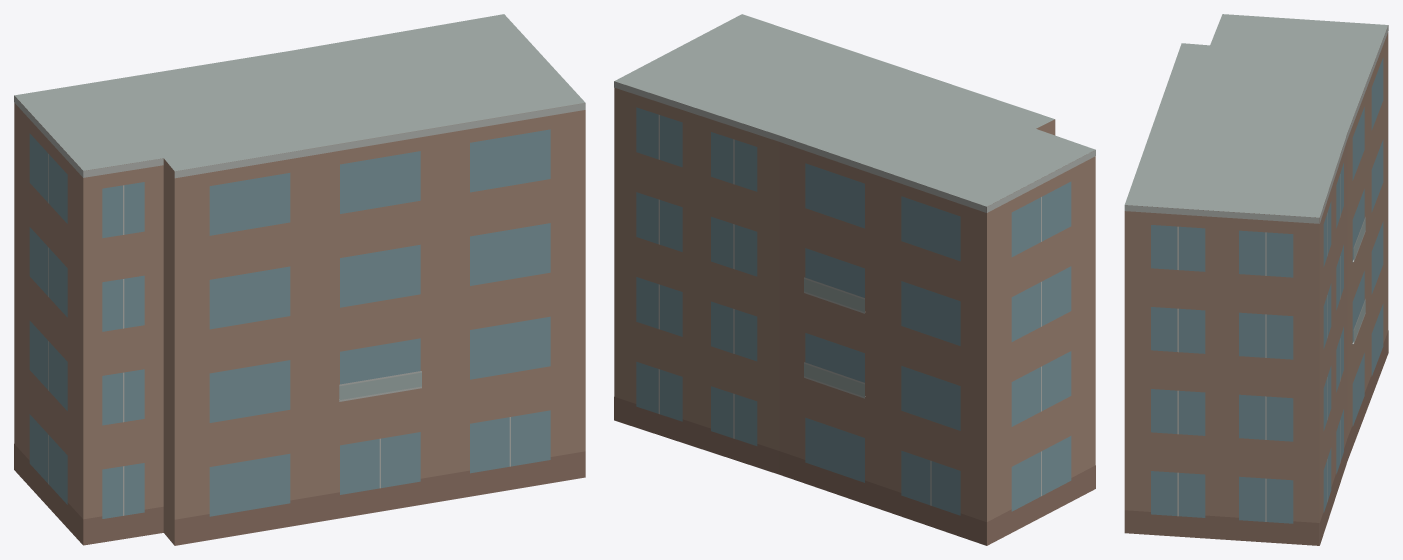
The model's file is survey-upis-32901530.glb.
The picture shows the model from 3 angles, left to right: view 1: azimuth 30°, elevation 25°; view 2: azimuth 150°, elevation 25°; view 3: azimuth 270°, elevation 25°; orthographic projection. The views are drawn at different scales.
Parts seen in each view (by area): view 1: survey-upis-32901530.tmp; view 2: survey-upis-32901530.tmp; view 3: survey-upis-32901530.tmp.
Part boxes in pixels (left/top/right/bottom): survey-upis-32901530.tmp: left=14, top=14, right=585, bottom=545; survey-upis-32901530.tmp: left=614, top=14, right=1095, bottom=545; survey-upis-32901530.tmp: left=1124, top=14, right=1388, bottom=545.
Bounding box in the file's own units: 17.31 × 13 × 9.48.
